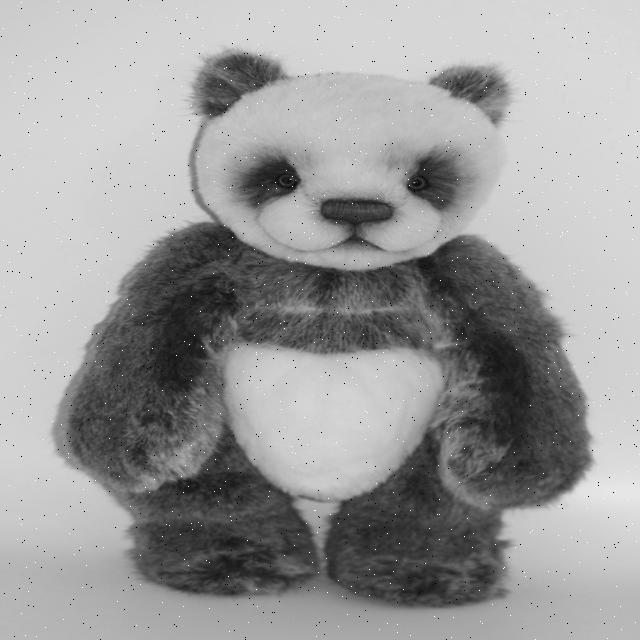panda: (49, 48, 595, 610)
